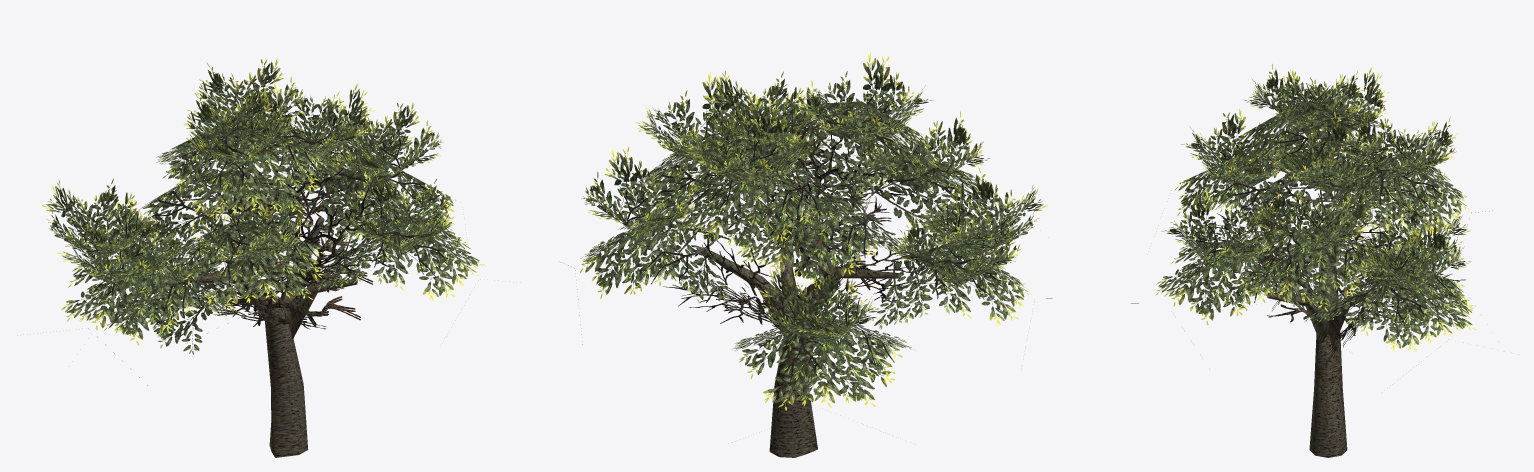
File: flora_tree_oak_holly_v2.glb
3 renders of one model, left to right at view 1: azimuth 30°, elevation 25°; view 2: azimuth 150°, elevation 25°; view 3: azimuth 270°, elevation 25°, orthographic. The views are drawn at different scales.
Visible parts, largest first — view 1: flora_tree_oak_holly_v2_part0, flora_tree_oak_holly_v2_part1; view 2: flora_tree_oak_holly_v2_part0, flora_tree_oak_holly_v2_part1; view 3: flora_tree_oak_holly_v2_part0, flora_tree_oak_holly_v2_part1.
Boxes of the visible parts, x1=… form: flora_tree_oak_holly_v2_part0: x1=42, y1=58, x2=485, y2=457; flora_tree_oak_holly_v2_part1: x1=186, y1=152, x2=397, y2=329; flora_tree_oak_holly_v2_part0: x1=568, y1=53, x2=1052, y2=457; flora_tree_oak_holly_v2_part1: x1=663, y1=110, x2=928, y2=359; flora_tree_oak_holly_v2_part0: x1=1131, y1=64, x2=1492, y2=457; flora_tree_oak_holly_v2_part1: x1=1184, y1=173, x2=1465, y2=371.
Bounding box in the file's own units: 26.02 × 21.97 × 21.33.
Materials: 2 (2 with a texture image).
